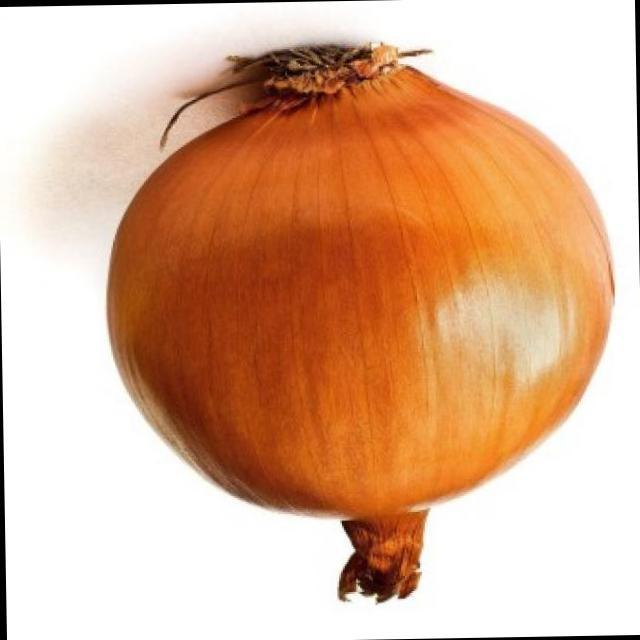Onion: (106, 48, 617, 599)
